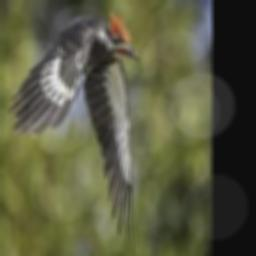Woodpecker: (8, 9, 139, 253)
